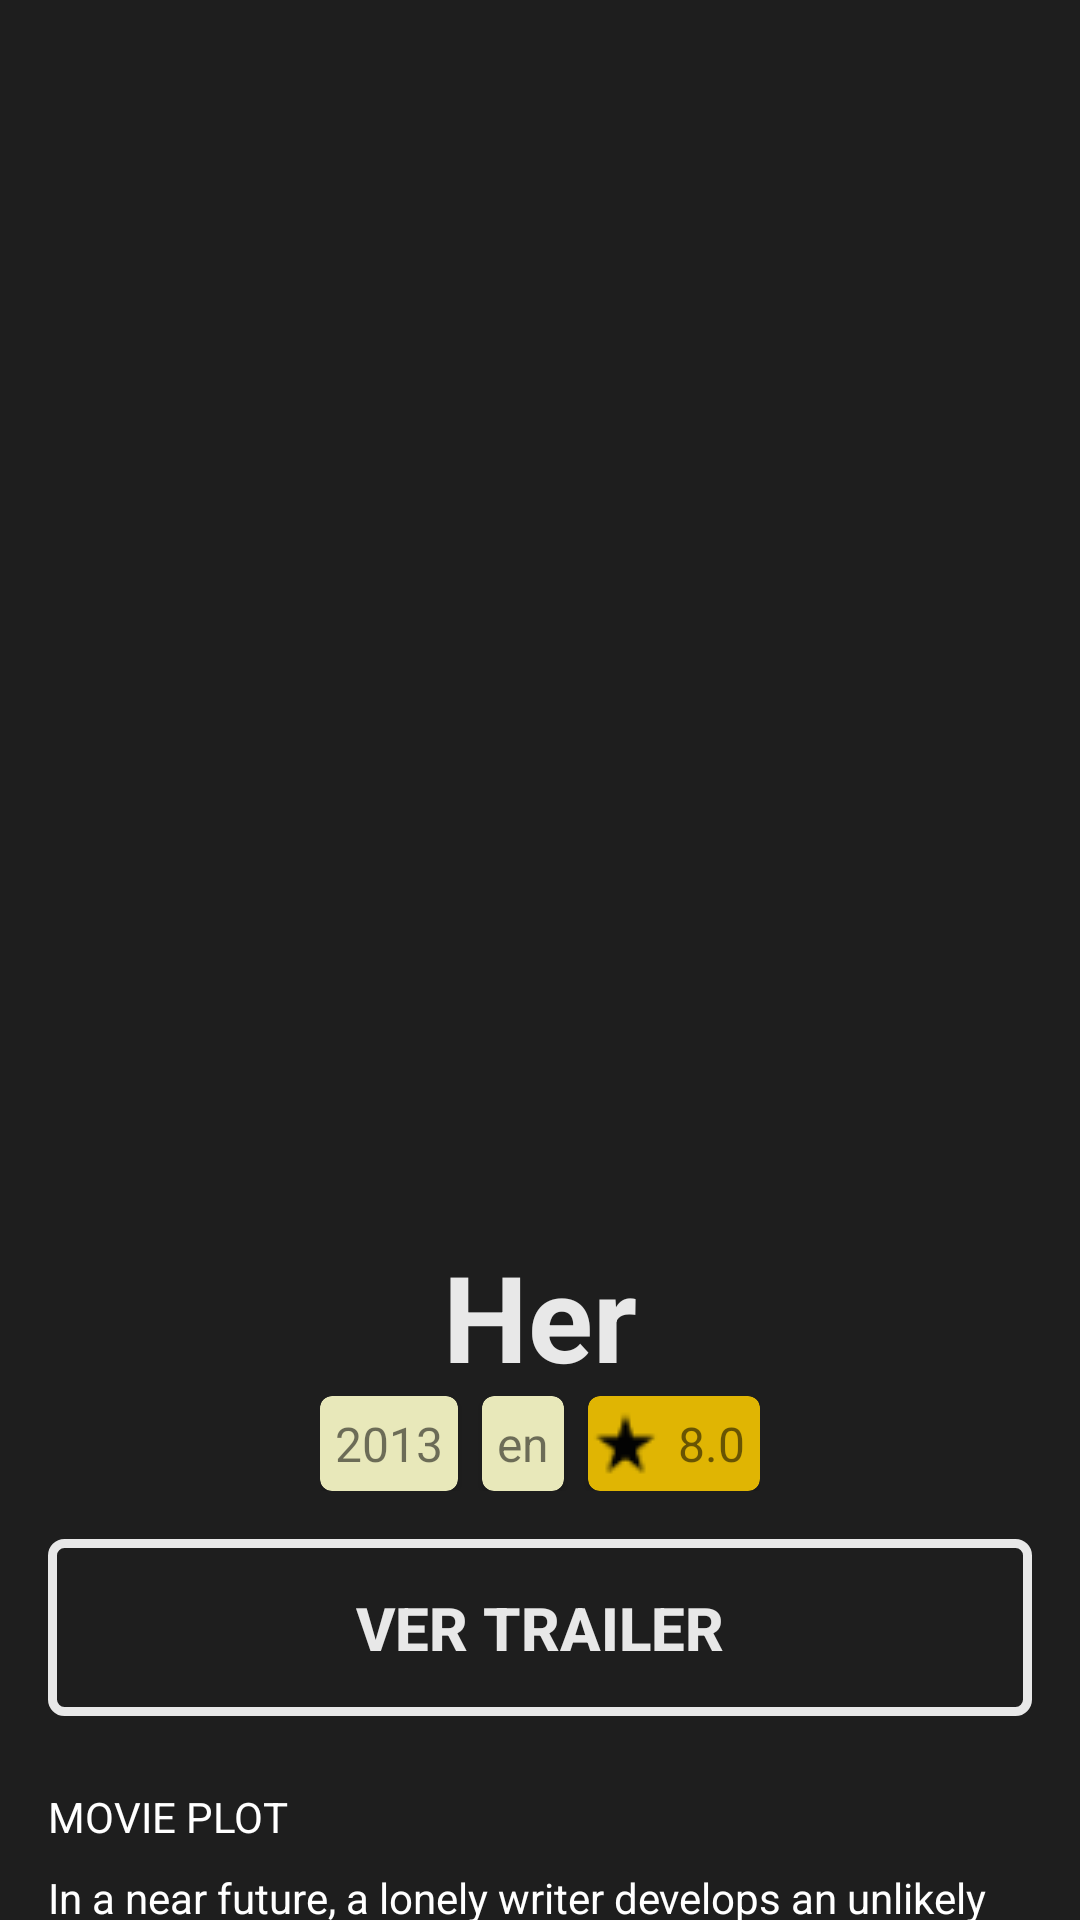

Where to tap for icons on this 1080*1920 app screen, as [x,y]:
star: [625,1444]
